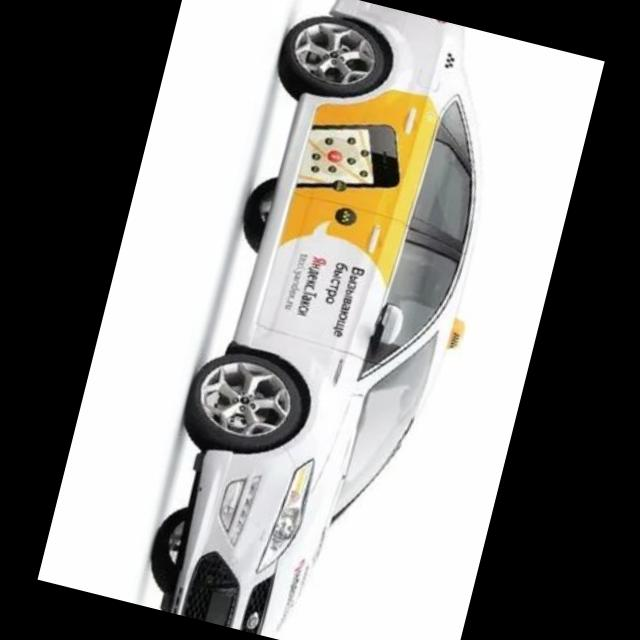taxi: (138, 1, 539, 640)
